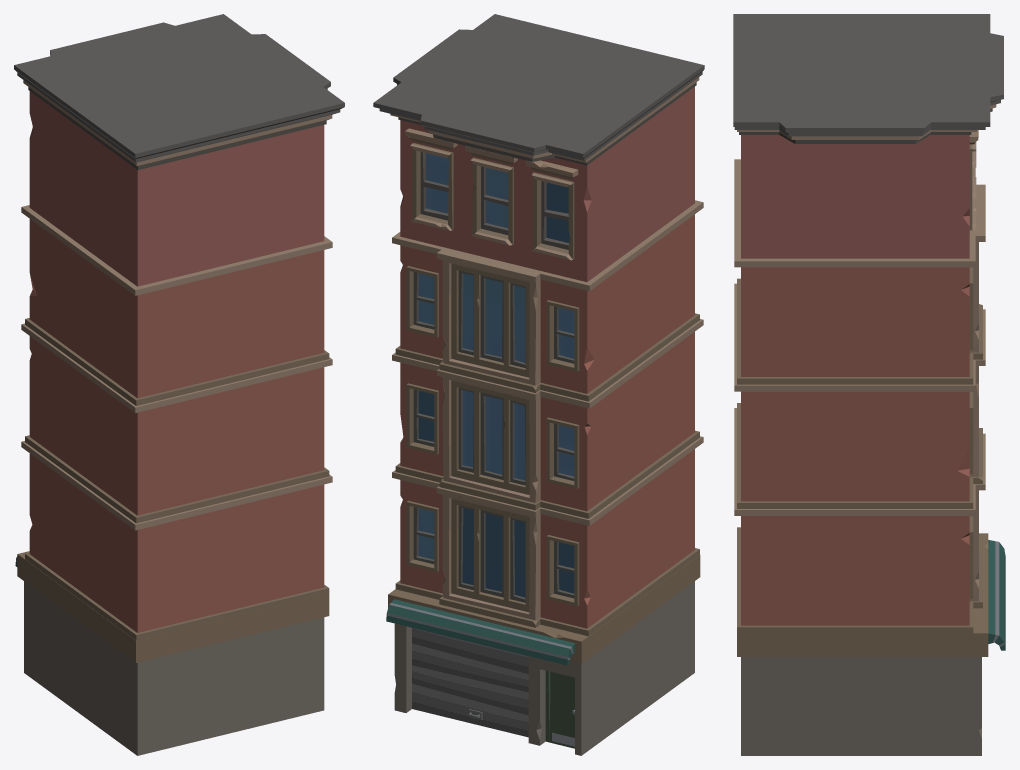
Rendered from v2-buildings-SM3D_Bld_Mixed_5fl.glb.
3 renders of one model, left to right at view 1: azimuth 30°, elevation 25°; view 2: azimuth 150°, elevation 25°; view 3: azimuth 270°, elevation 25°, orthographic. The views are drawn at different scales.
Visible parts, largest first — view 1: SM3D_Bld_Mixed_5fl; view 2: SM3D_Bld_Mixed_5fl; view 3: SM3D_Bld_Mixed_5fl.
Part boxes in pixels (x1,y1,x2,y2): SM3D_Bld_Mixed_5fl: (14, 14, 344, 755); SM3D_Bld_Mixed_5fl: (373, 14, 704, 755); SM3D_Bld_Mixed_5fl: (733, 14, 1005, 755).
Size of the model in its own units: 5.9 by 15.5 by 5.96.
Materials: 1 (1 with a texture image).
